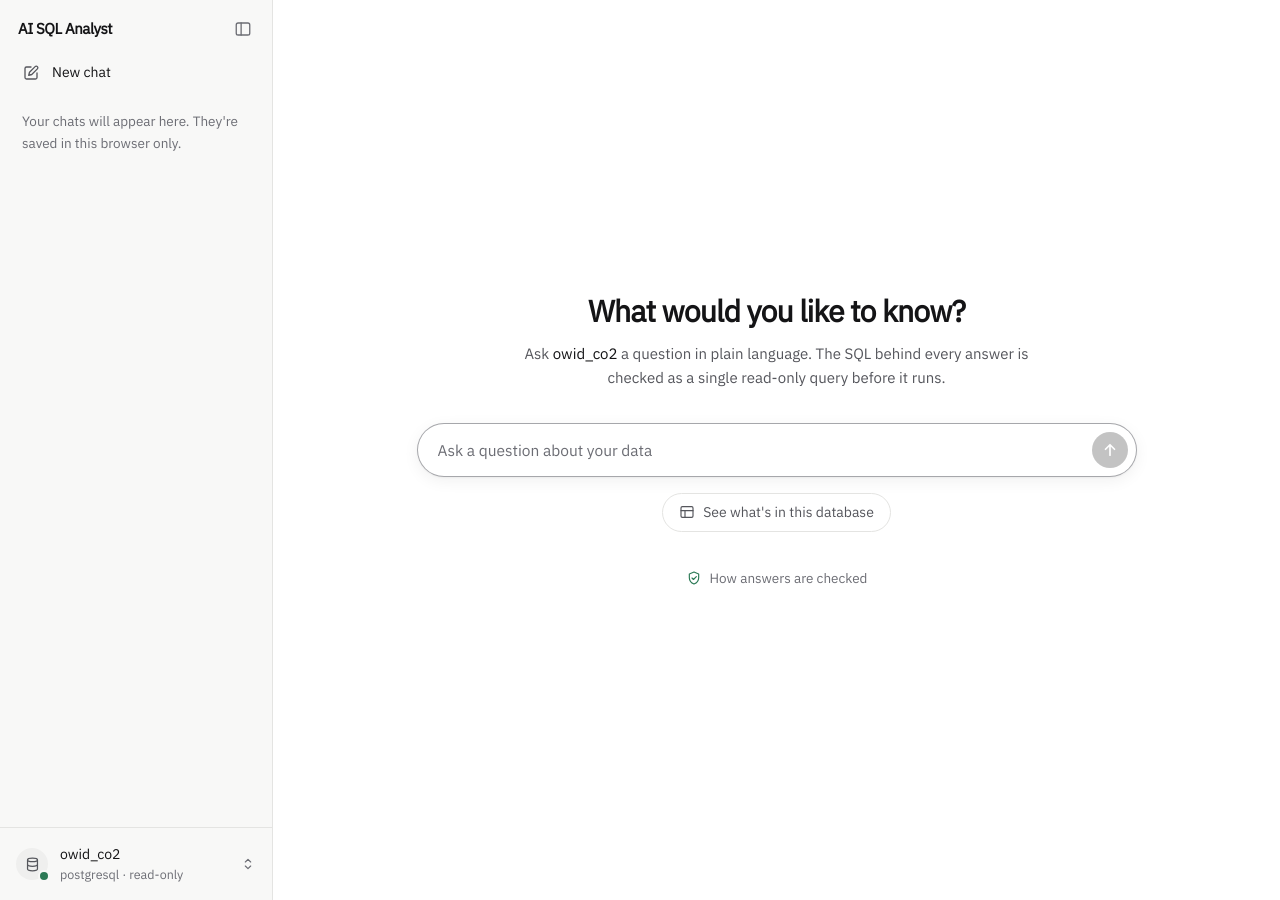
Test: App › asks a question and renders the answer, result, and the SQL and trace behind it
Type "Which country emitted the most CO2 in 2023?" into the text box labelled "Ask a question about your data" at {"x": 760, "y": 450}, box [438,432,1084,468]
Then press Enter
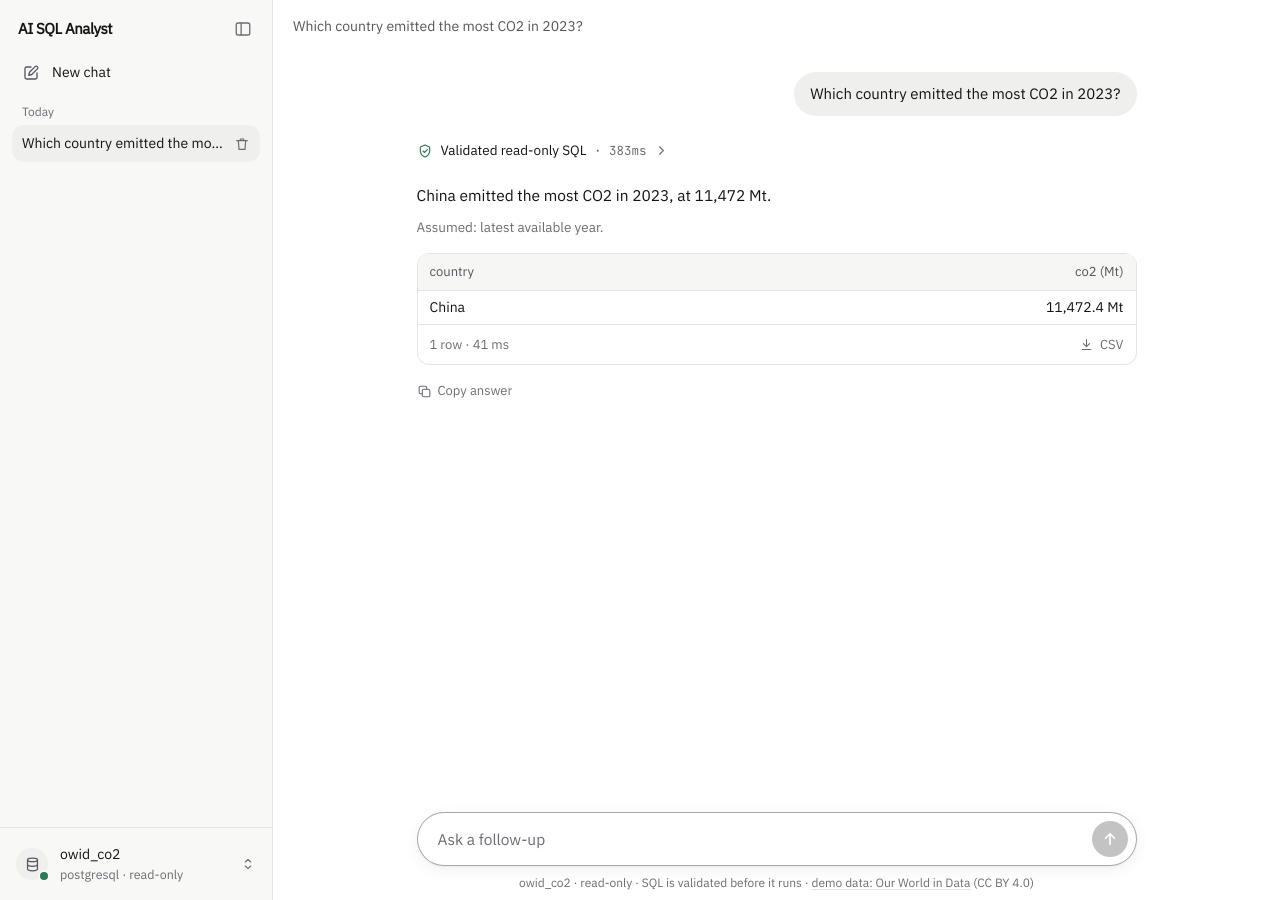
Expected: the text "China emitted the most CO2 in 2023, at 11,472 Mt." is shown, [416,185,771,205]
Expected: the text "China" is shown, [418,290,706,324]
Expected: the text "Assumed: latest available year." is shown, [416,218,604,236]
Click the button "Validated read-only SQL · 383ms" at {"x": 543, "y": 151}, box [408,136,678,165]
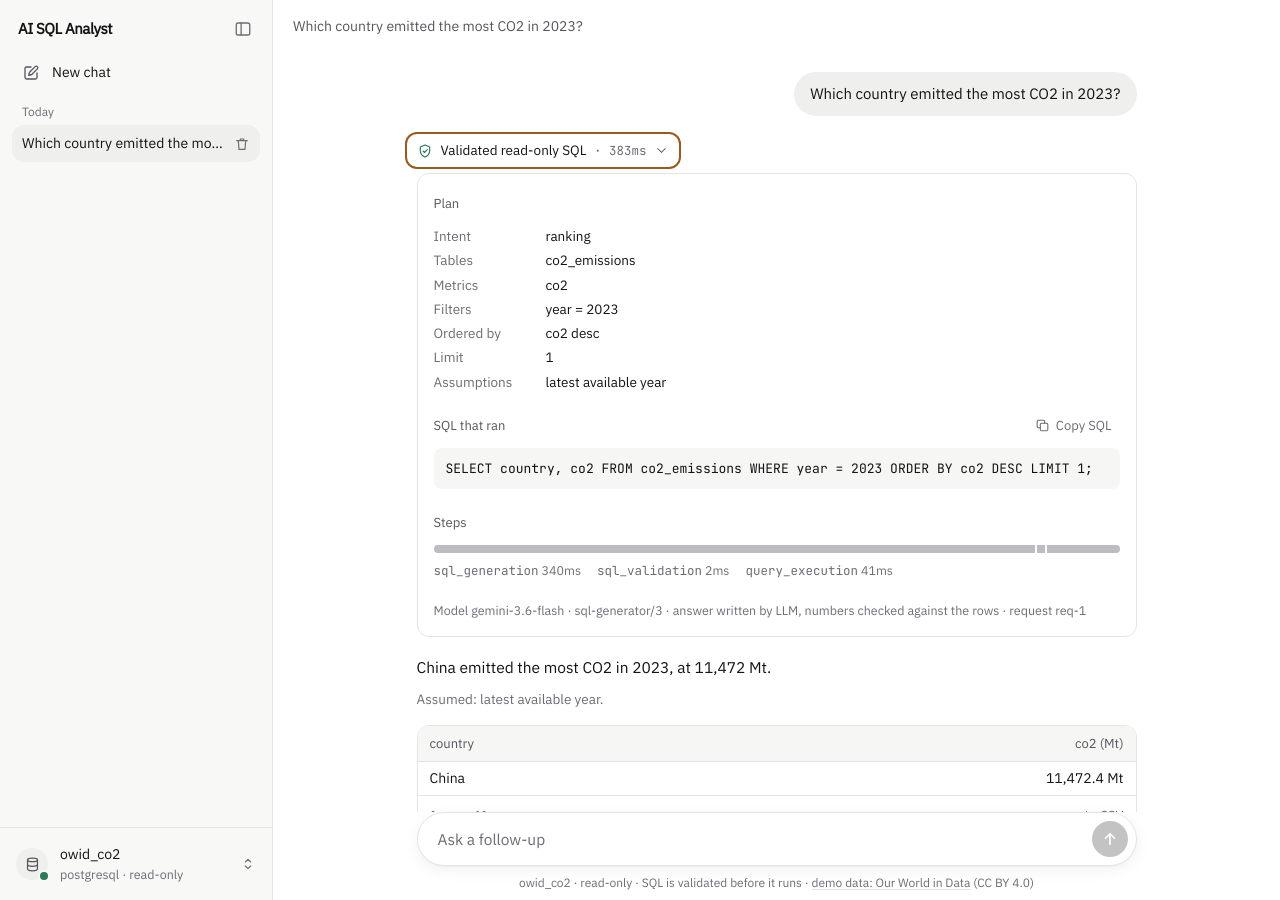
Expected: the text "SELECT country, co2 FROM co2_emissions" is shown, [446,460,1093,477]
Expected: the picture named "execution trace: sql_generation 340ms success" is shown, [434,545,1120,553]
